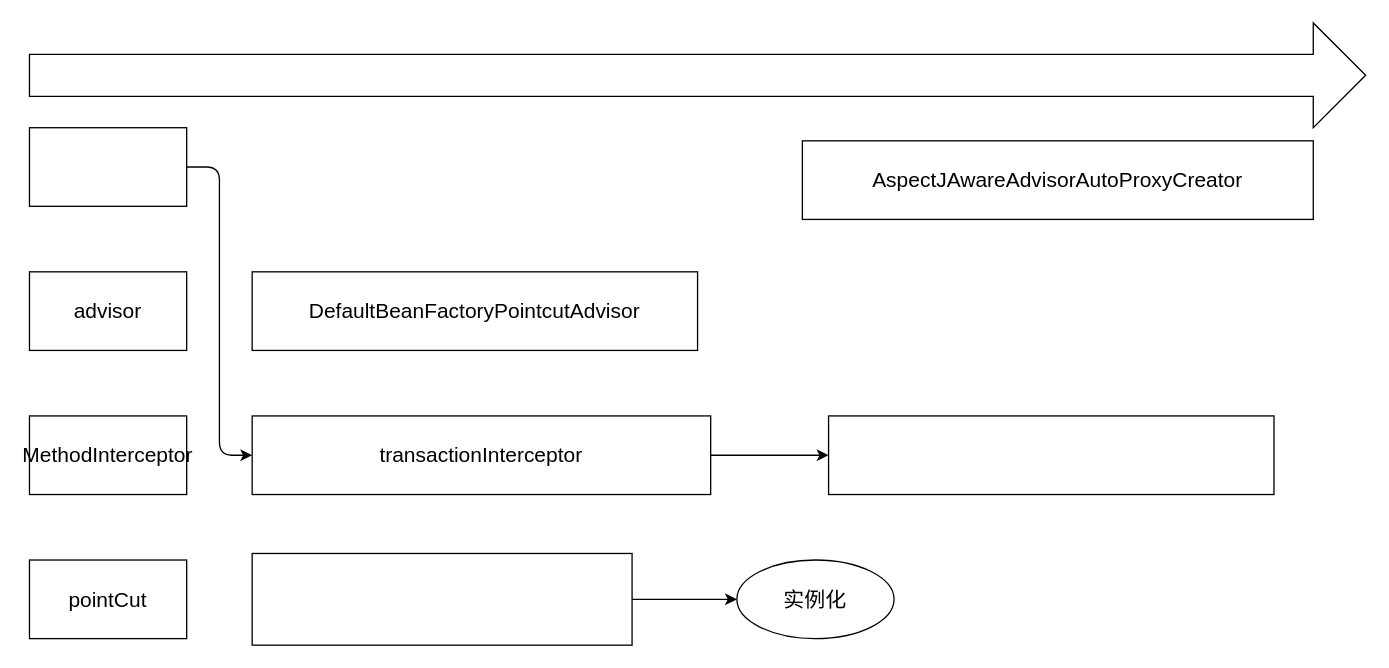
Some shapes in this 1389 by 668 pixel diagram are drawn without their labels. Here are the shapes that lost their labels. From the top down, the box of each, then its label:
(28, 22, 1366, 128): 事务beanDefinition加载期间，要创建成功的几个对象
(28, 126, 187, 206): advice
(827, 415, 1274, 495): NameMatchTransactionAttributeSource
(251, 552, 632, 645): AspectJExpressionPointCut
